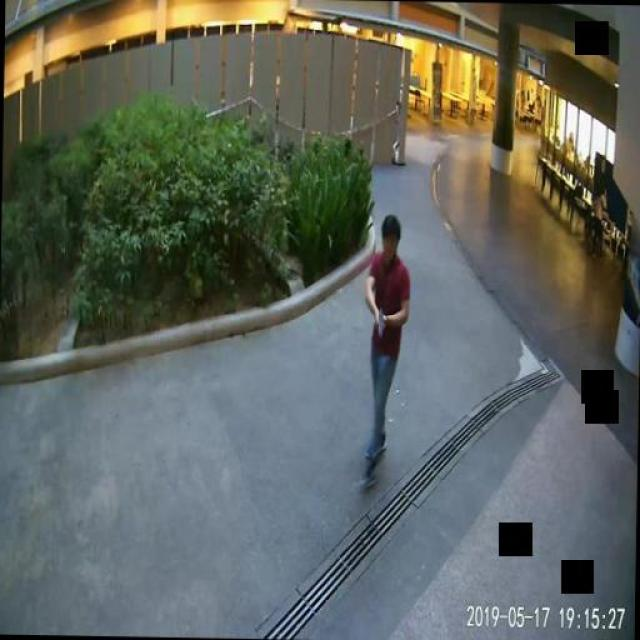gun: (372, 306, 383, 336)
